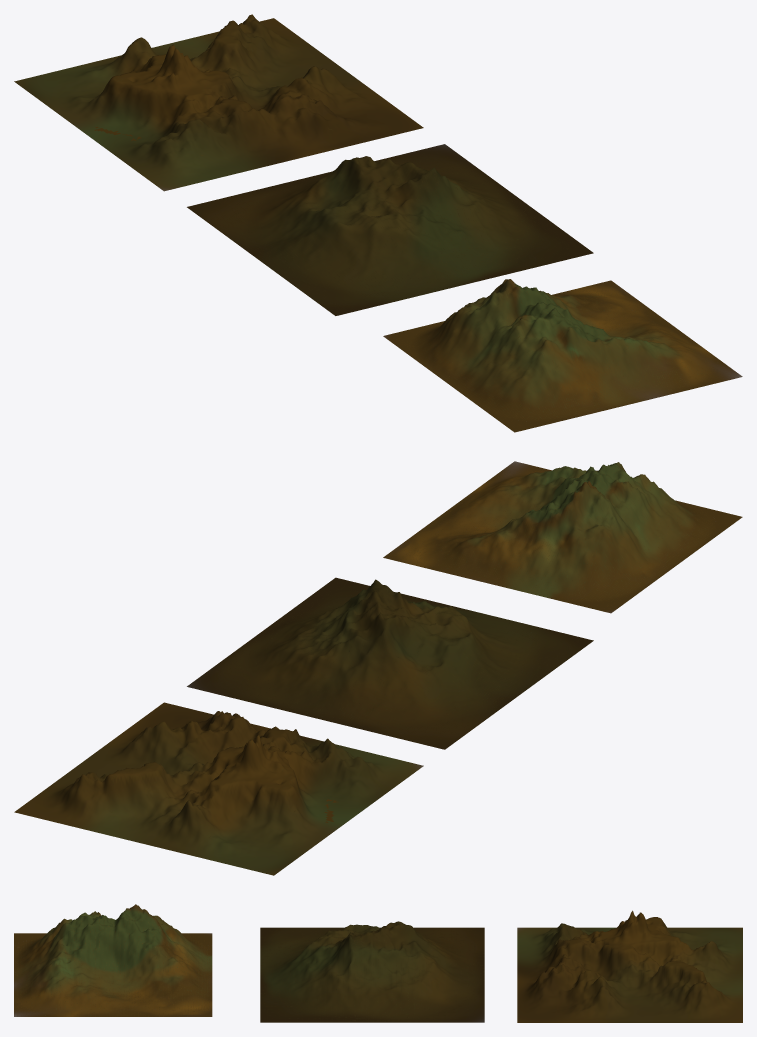
File: Mountain.fbx
3 renders of one model, top to bottom at view 1: azimuth 30°, elevation 25°; view 2: azimuth 150°, elevation 25°; view 3: azimuth 270°, elevation 25°, orthographic. The views are drawn at different scales.
Parts seen in each view (by area): view 1: Mountain Range 3, Mountain Range 2, Mountain Range 1; view 2: Mountain Range 3, Mountain Range 2, Mountain Range 1; view 3: Mountain Range 3, Mountain Range 2, Mountain Range 1.
Part boxes in pixels (box(x1,y1,x2,y2)): Mountain Range 3: box(14, 14, 423, 191); Mountain Range 2: box(187, 144, 593, 315); Mountain Range 1: box(383, 279, 742, 432); Mountain Range 3: box(14, 702, 423, 875); Mountain Range 2: box(187, 577, 593, 749); Mountain Range 1: box(383, 461, 742, 613); Mountain Range 3: box(517, 910, 742, 1022); Mountain Range 2: box(260, 921, 484, 1022); Mountain Range 1: box(14, 904, 212, 1016).
Bounding box in the file's own units: 612 × 170 × 1977.
Materials: 3 (3 with a texture image).
